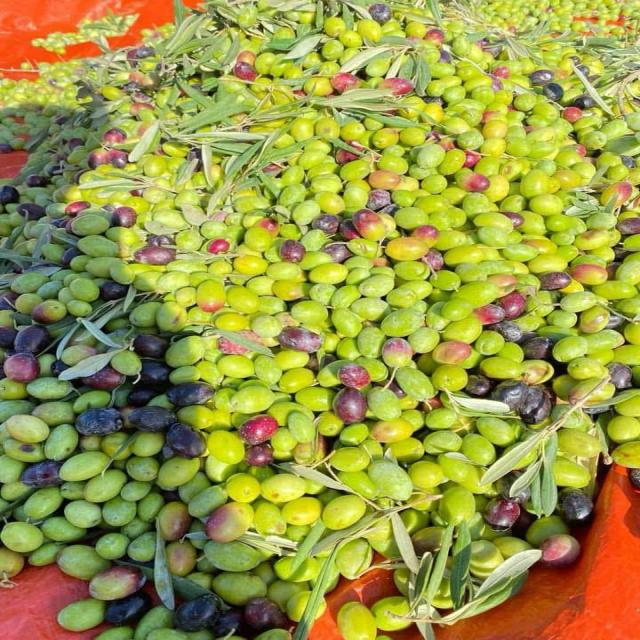Healthy: (0, 0, 639, 639)
